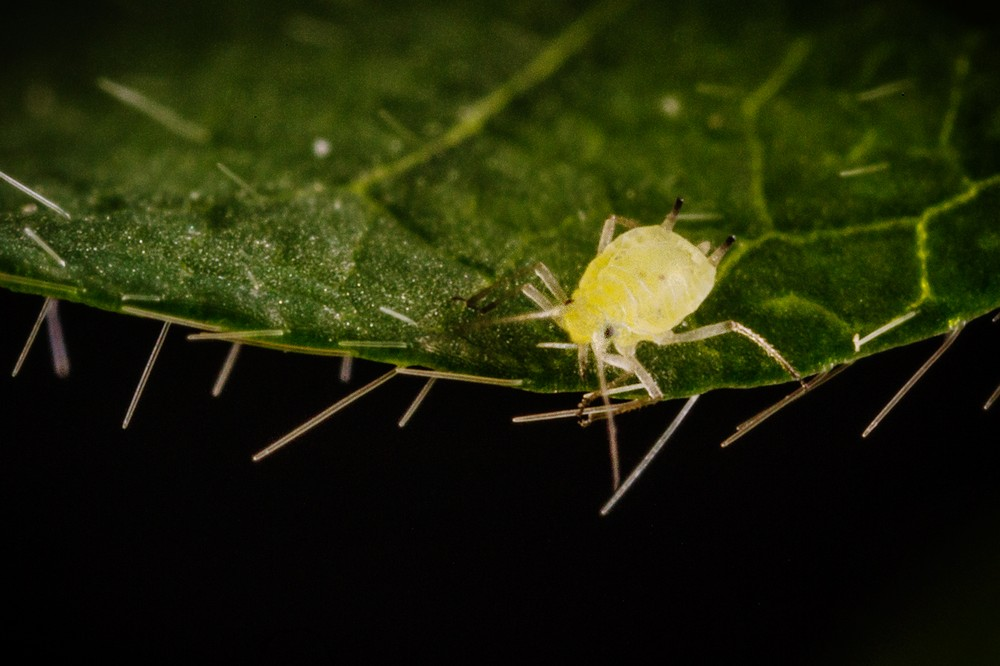Pulgon: (482, 186, 812, 386)
